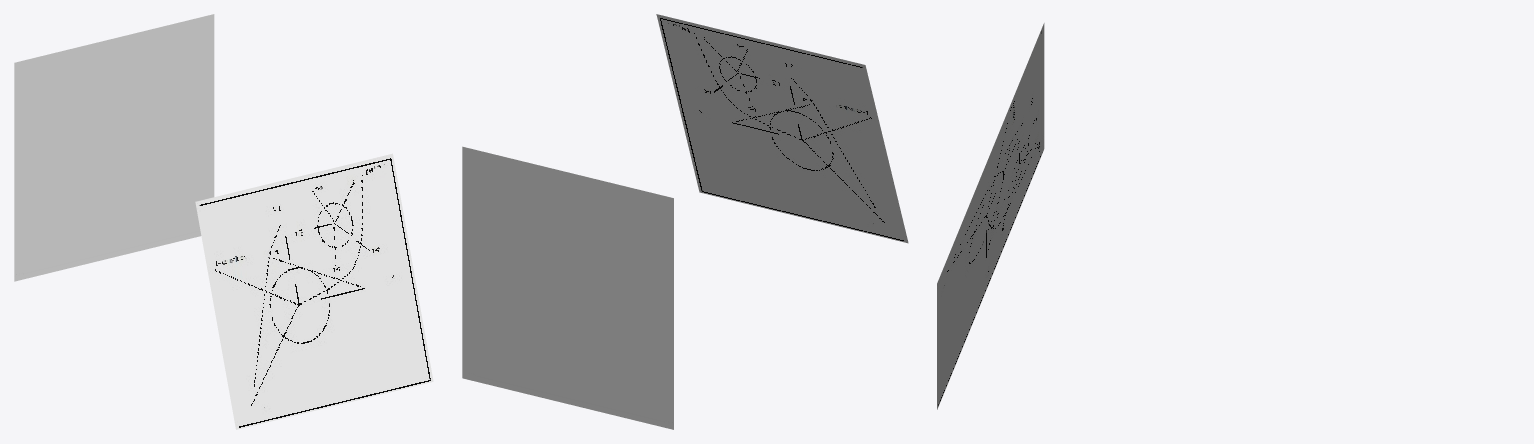
File: Five measure.glb
The picture shows the model from 3 angles, left to right: view 1: azimuth 30°, elevation 25°; view 2: azimuth 150°, elevation 25°; view 3: azimuth 270°, elevation 25°; orthographic projection. The views are drawn at different scales.
Parts seen in each view (by area): view 1: mesh_id29, mesh_id1; view 2: mesh_id1, mesh_id29; view 3: mesh_id29.
Part boxes in pixels (x1,y1,x2,y2): mesh_id29: (195, 153, 433, 429); mesh_id1: (14, 14, 214, 281); mesh_id1: (462, 146, 673, 429); mesh_id29: (656, 14, 908, 243); mesh_id29: (937, 23, 1044, 409).
Size of the model in its own units: 0.172 by 0.18 by 0.3303.
Materials: 2 (2 with a texture image).
